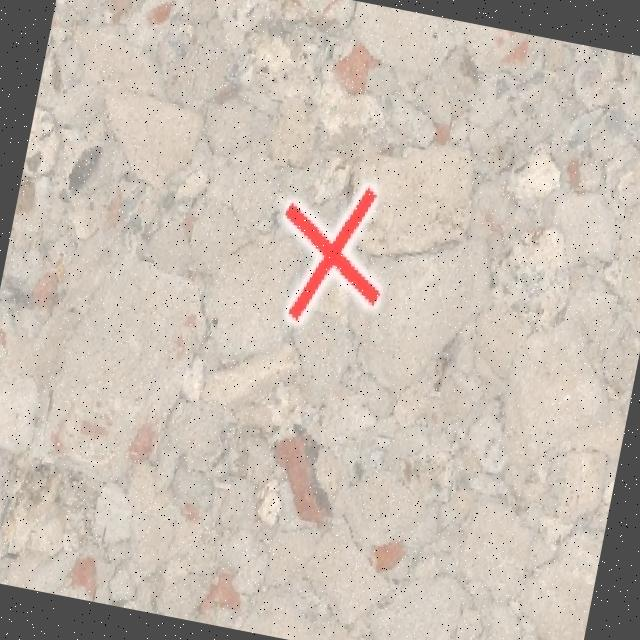x_marker: (265, 172, 397, 334)
